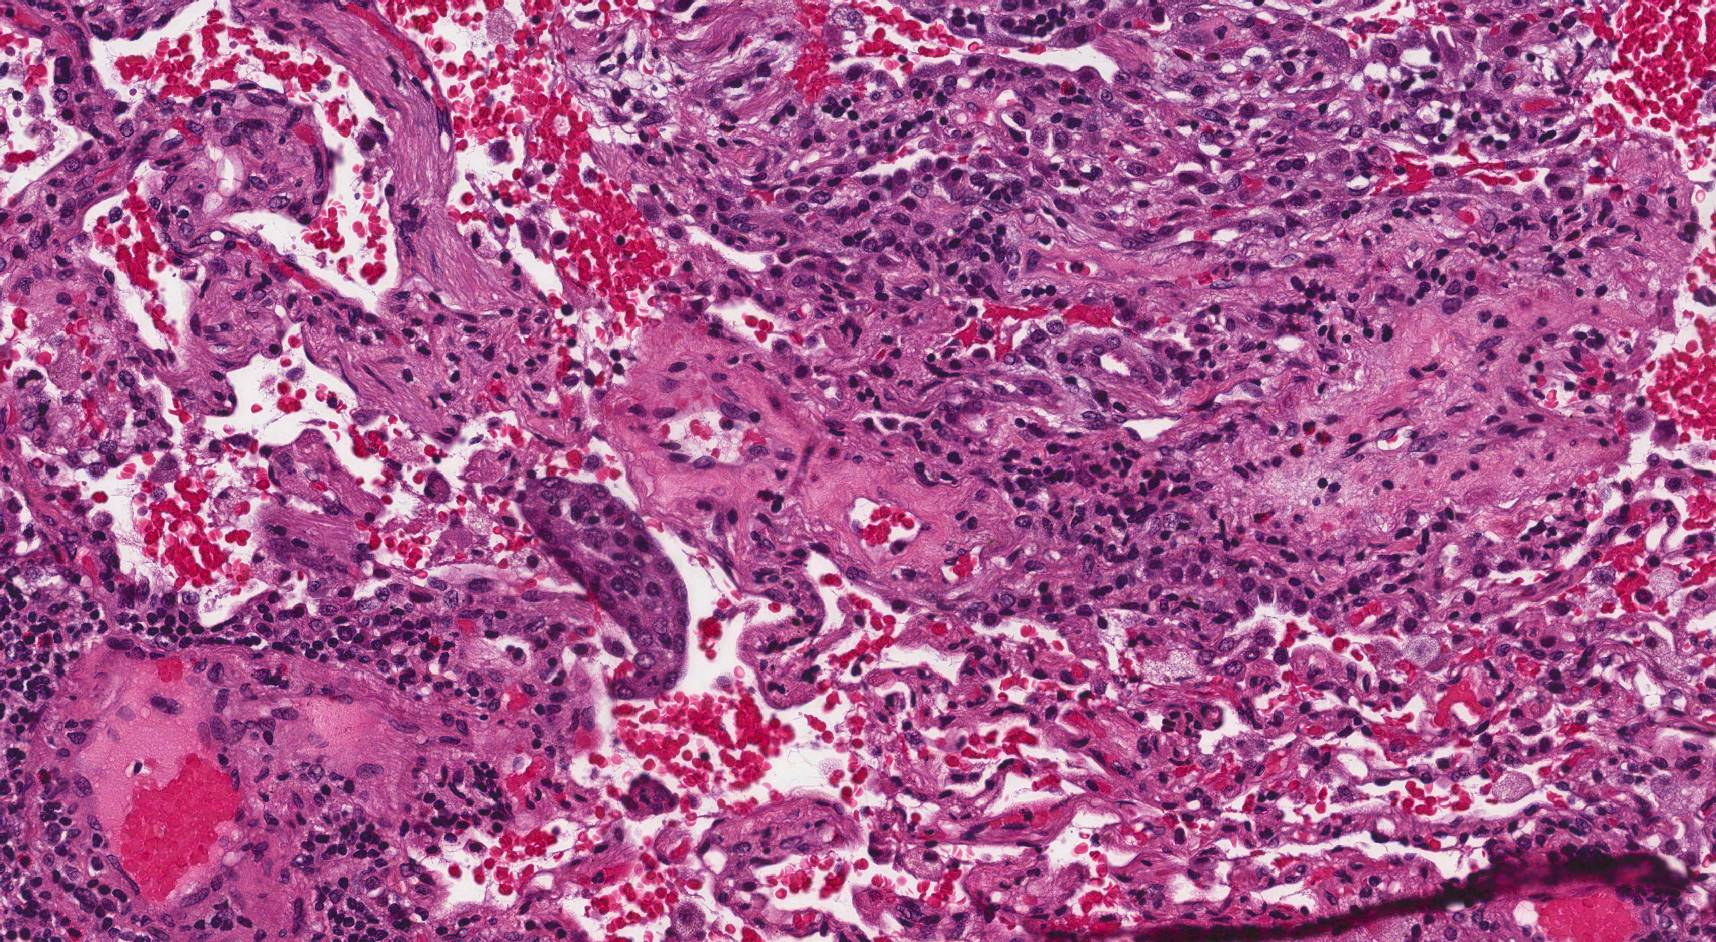stas: (518, 476, 691, 703), (622, 770, 679, 821)
